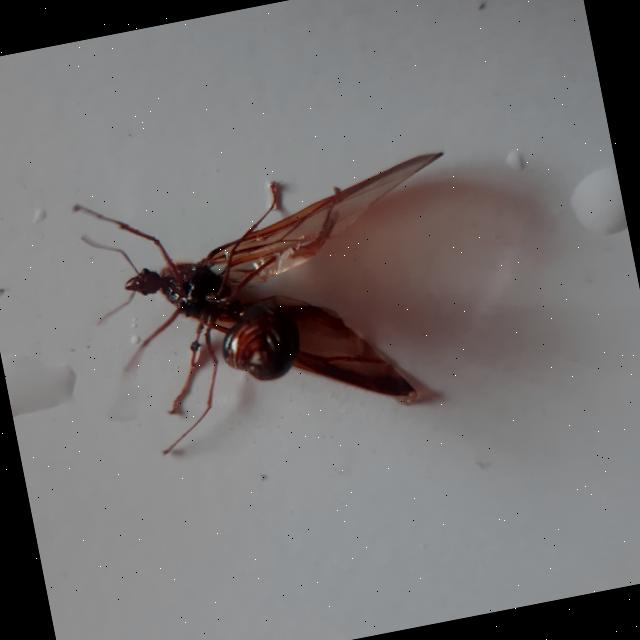Dead-Male-Alate: (70, 133, 492, 465)
